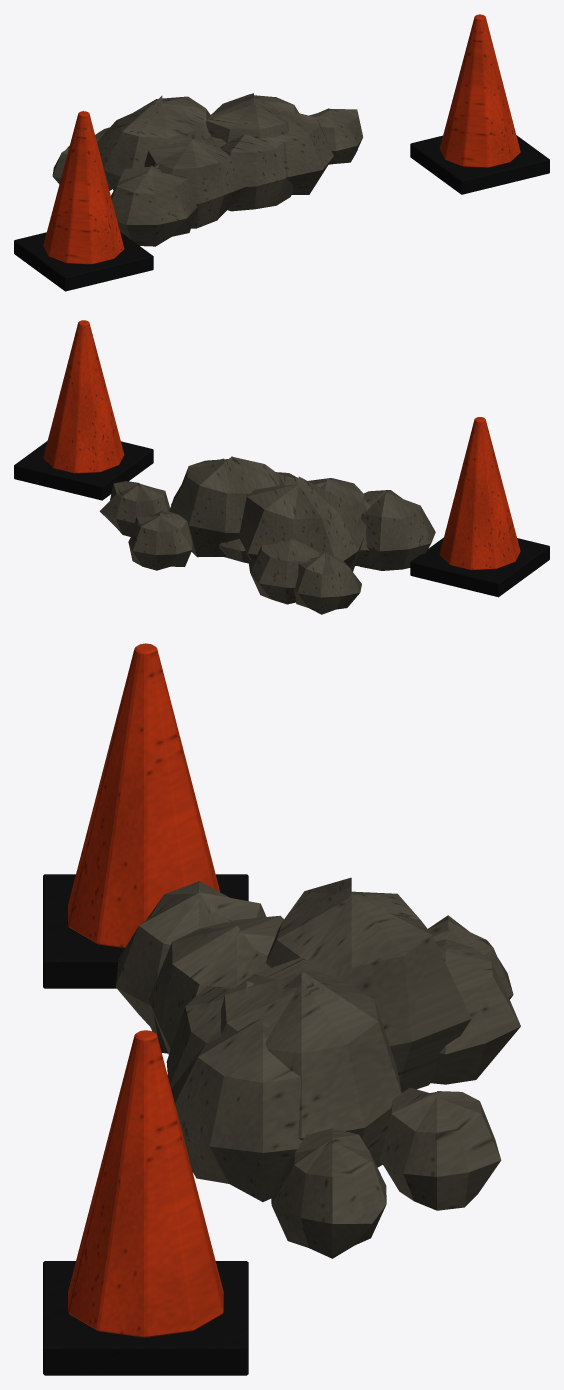
The model's file is PROP-D143798EFE91_lod1.glb.
The picture shows the model from 3 angles, top to bottom: view 1: azimuth 30°, elevation 25°; view 2: azimuth 150°, elevation 25°; view 3: azimuth 270°, elevation 25°; orthographic projection. The views are drawn at different scales.
Visible parts, largest first — view 1: rock.006, cone.001, cone_base.001; view 2: rock.006, cone.001, cone_base.001; view 3: rock.006, cone.001, cone_base.001.
Part boxes in pixels (bbox=[...]): rock.006: bbox=[52, 93, 362, 246]; cone.001: bbox=[43, 14, 520, 264]; cone_base.001: bbox=[14, 135, 549, 291]; rock.006: bbox=[99, 456, 435, 614]; cone.001: bbox=[43, 320, 520, 570]; cone_base.001: bbox=[14, 441, 549, 597]; rock.006: bbox=[115, 877, 520, 1258]; cone.001: bbox=[68, 643, 223, 1337]; cone_base.001: bbox=[43, 874, 248, 1375].
Size of the model in its own units: 2.45 by 0.72 by 1.05.
Materials: 4 (4 with a texture image).
